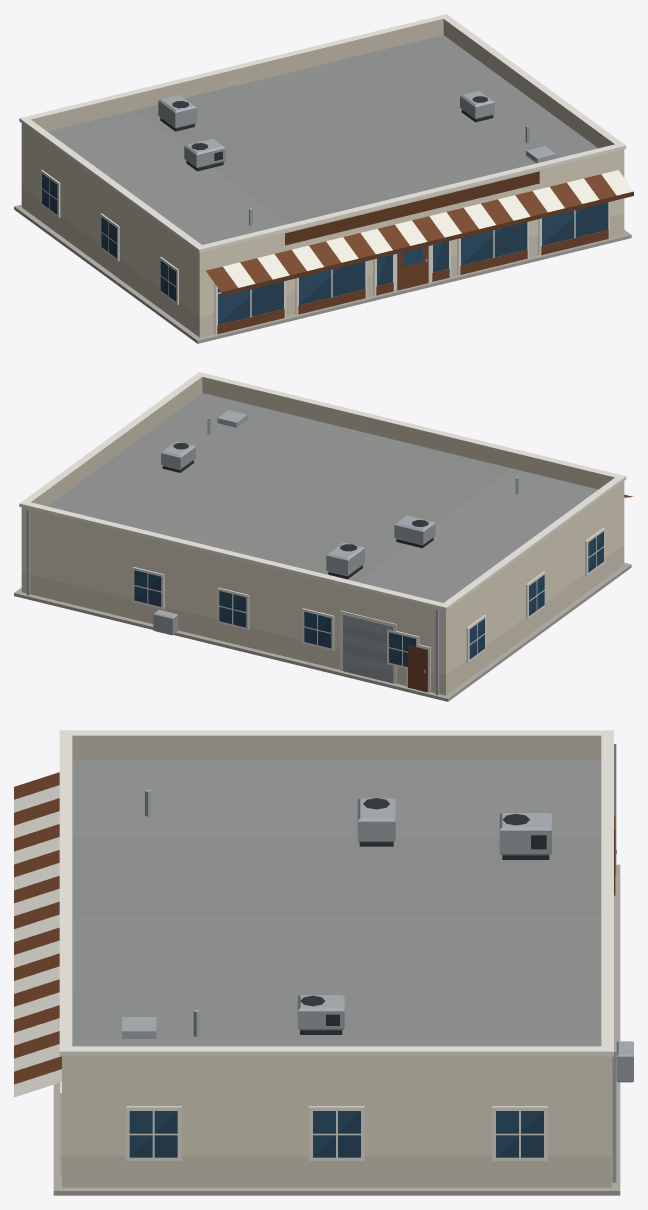
Rendered from store_22x16.glb.
3 renders of one model, top to bottom at view 1: azimuth 30°, elevation 25°; view 2: azimuth 150°, elevation 25°; view 3: azimuth 270°, elevation 25°, orthographic. The views are drawn at different scales.
Parts seen in each view (by area): view 1: block; view 2: block; view 3: block.
Boxes of the visible parts, x1,y1,x2,y2 form: block: [14, 14, 633, 343]; block: [14, 372, 633, 701]; block: [14, 730, 633, 1195].
Size of the model in its own units: 22.5 by 4.81 by 18.05.
